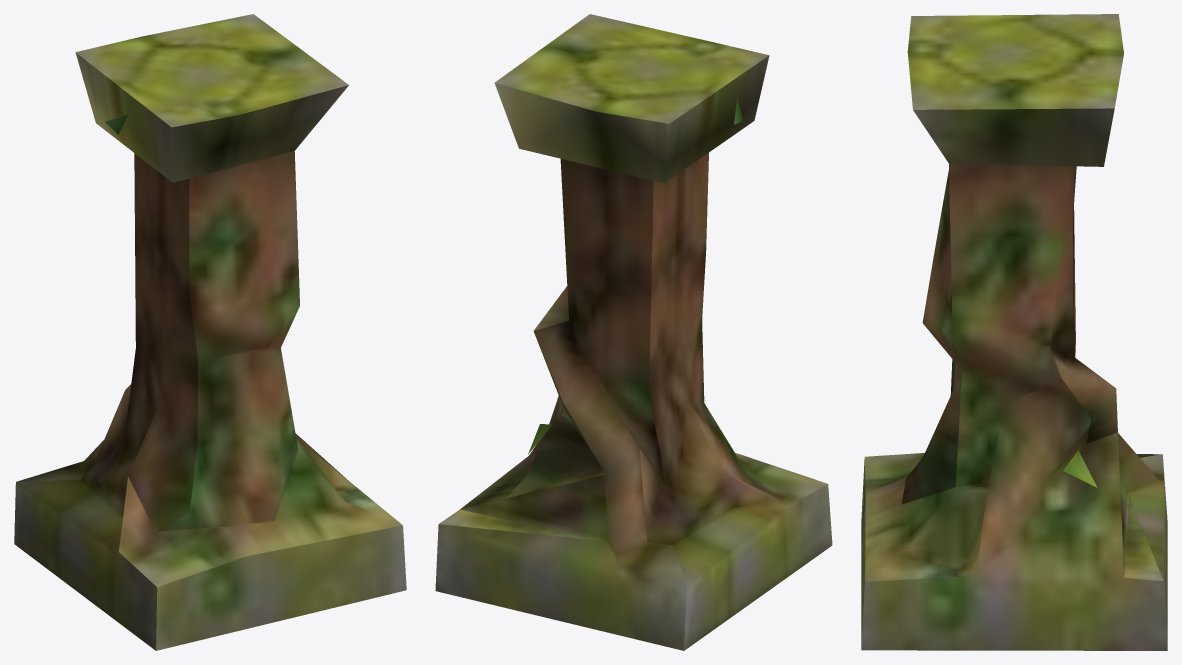
File: b_racines_pilier_lod1.glb
The picture shows the model from 3 angles, left to right: view 1: azimuth 30°, elevation 25°; view 2: azimuth 150°, elevation 25°; view 3: azimuth 270°, elevation 25°; orthographic projection. The views are drawn at different scales.
Visible parts, largest first — view 1: geometry_0; view 2: geometry_0; view 3: geometry_0.
Boxes of the visible parts, left/top/right/bottom form: geometry_0: left=14, top=14, right=406, bottom=650; geometry_0: left=435, top=14, right=832, bottom=650; geometry_0: left=861, top=14, right=1167, bottom=650.
Bounding box in the file's own units: 1 × 1.9 × 1.
1 material, 1 textured.
